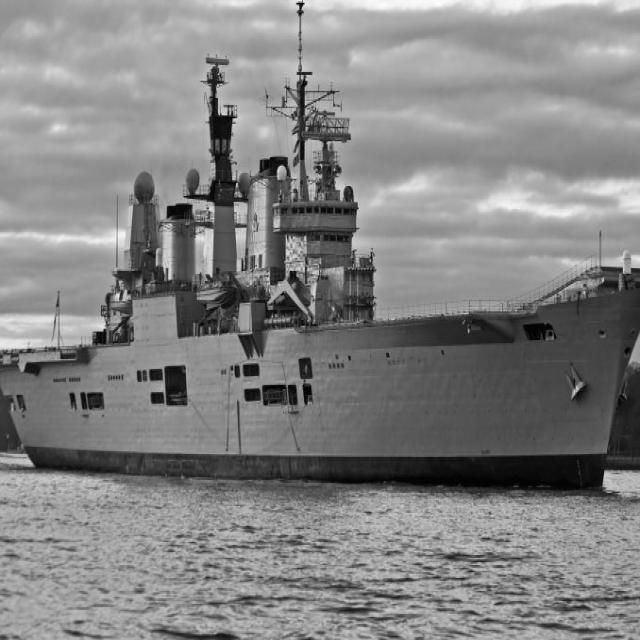Portanaves: (1, 1, 640, 504)
